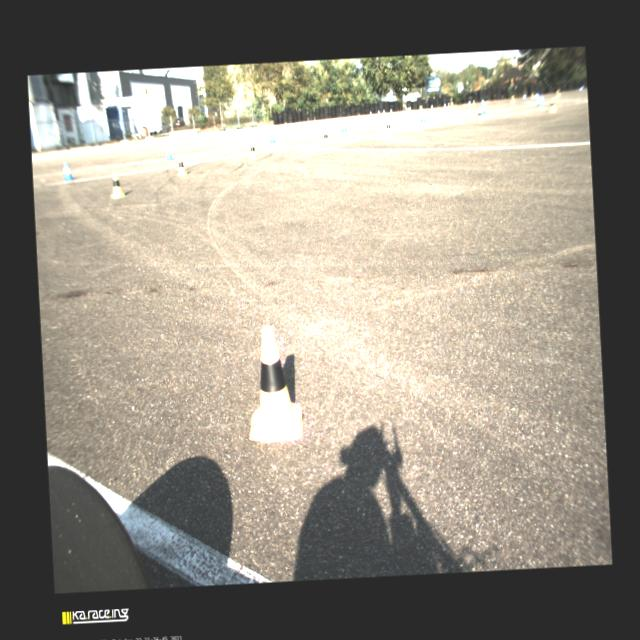blue_cone: (64, 163, 74, 180), (166, 145, 173, 160), (340, 120, 348, 132), (269, 130, 276, 143), (537, 96, 543, 107), (482, 104, 488, 115), (420, 112, 426, 122), (443, 103, 447, 110), (481, 99, 484, 107), (534, 94, 537, 101), (522, 95, 526, 100), (382, 110, 386, 114), (431, 105, 434, 110), (390, 108, 392, 114), (370, 111, 372, 116), (408, 107, 410, 112), (378, 110, 380, 114)
yellow_cone: (244, 324, 304, 442), (110, 171, 126, 199), (176, 157, 187, 176), (248, 143, 256, 159), (548, 98, 556, 114), (322, 130, 330, 146), (476, 108, 484, 123), (385, 120, 392, 135), (511, 95, 514, 104), (451, 102, 454, 110), (472, 100, 476, 106), (530, 94, 534, 100), (447, 103, 450, 109), (556, 92, 558, 98), (421, 106, 423, 110)
